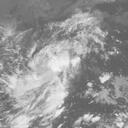cyclone: (37, 46, 75, 78)
